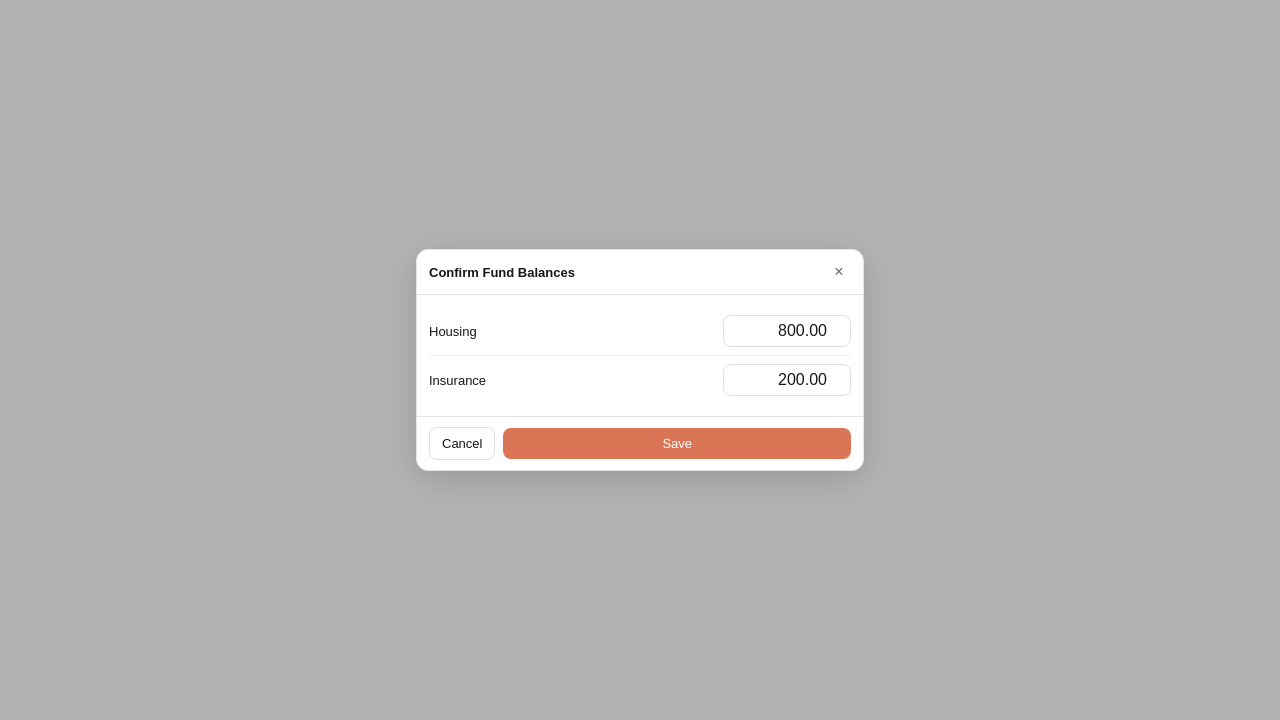
it: ConfirmBalancesModal › shows validation error for negative balance
Step 1. Replace the text in the number field with test id "confirm-balances-input-fg1" with "-50" → (787, 331), box [723, 315, 851, 347]
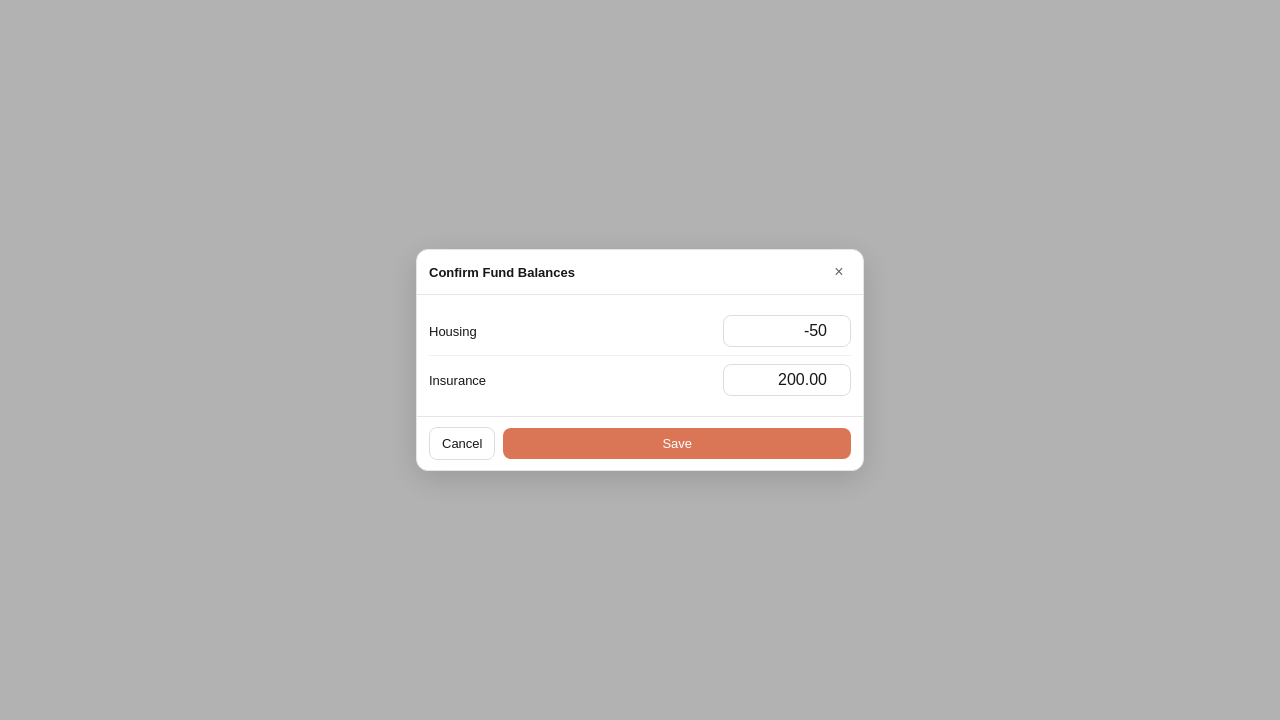
Step 2. Click the button with test id "confirm-balances-save" → (677, 444), box [504, 428, 851, 459]
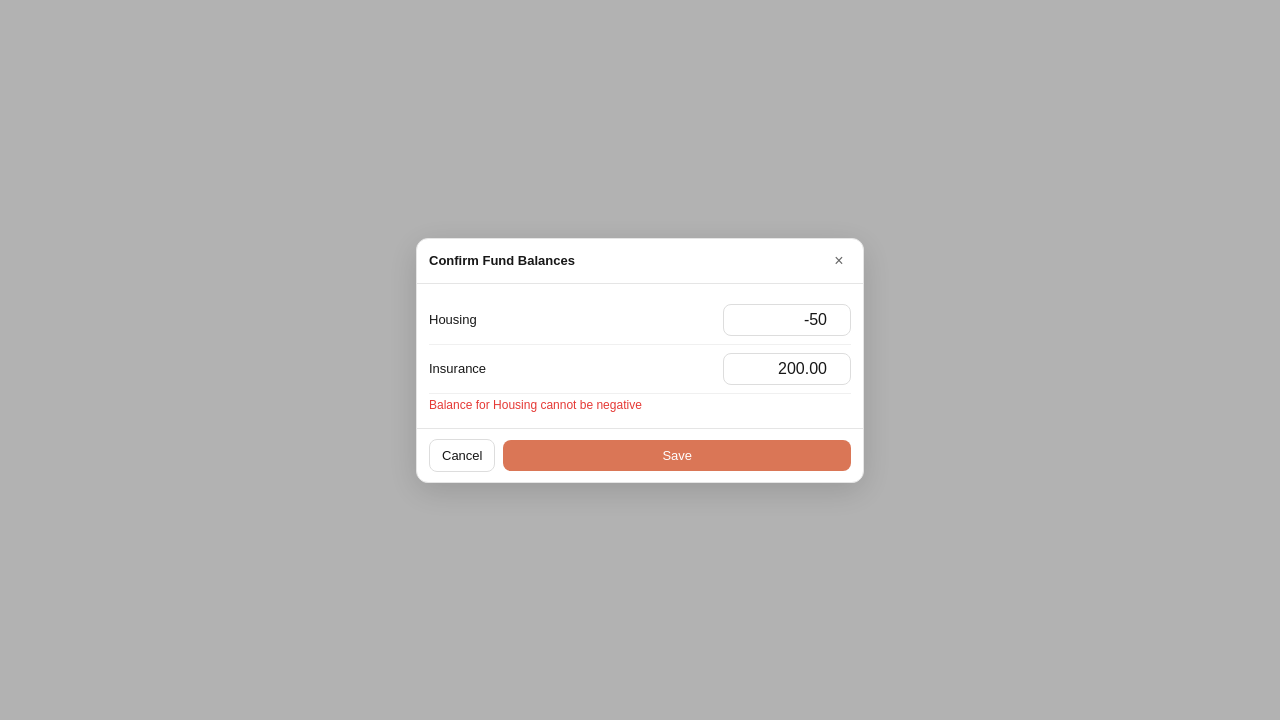
expect the text with test id "confirm-balances-validation-error" reads "Balance for Housing cannot be negative": met, box [429, 398, 642, 412]
